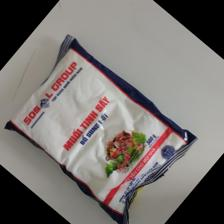Salt: (4, 35, 198, 224)
